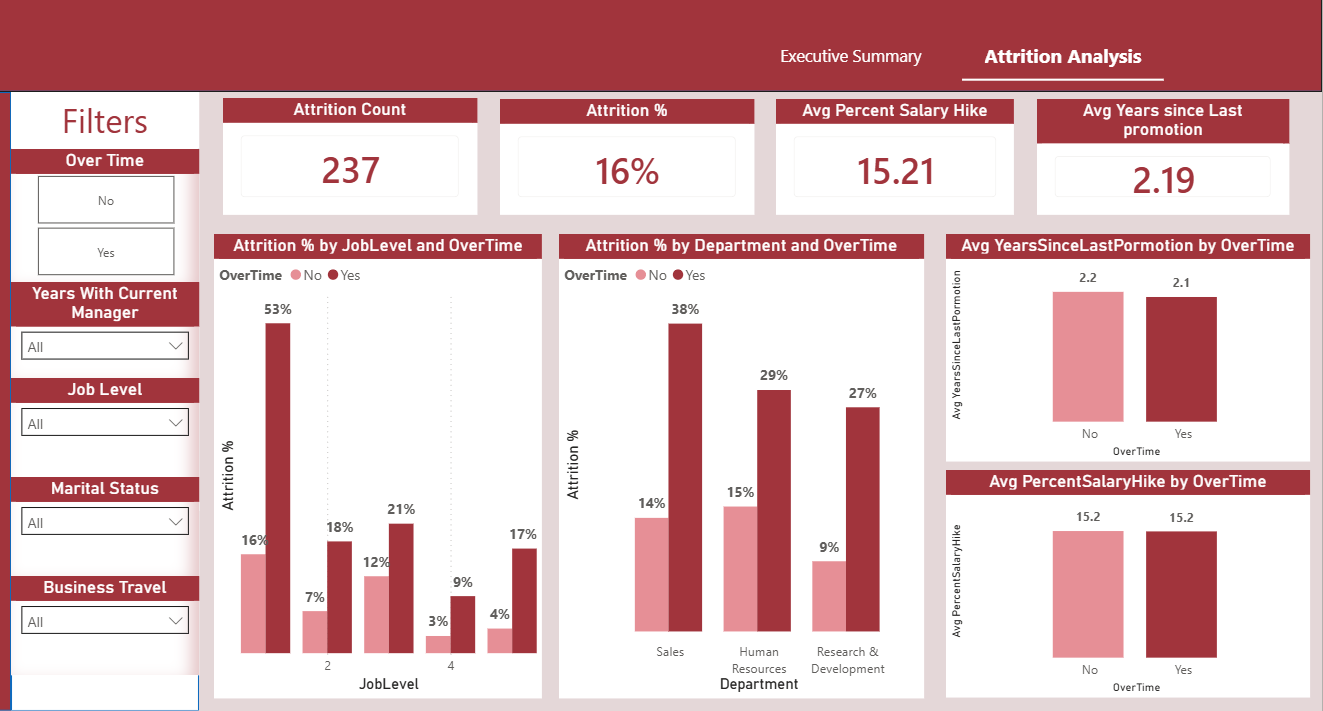

The page's visual inventory and layout, read from the dashboard file:
{"tool":"powerbi","page":{"name":"Attrition Analysis","canvas":[1280,720],"ordinal":1},"visuals":[{"type":"shape","box":[0,0,1280,99.6],"z":0},{"type":"shape","box":[0,99.6,12.6,619.7],"z":1000},{"type":"cardVisual","title":"Attrition Count","fields":{"Data":["_Measures.Attrition count"]},"box":[217.5,119.9,245.6,113.1],"z":2000},{"type":"clusteredColumnChart","fields":{"Category":["HR_Datasets_Cleaned.Department"],"Y":["_Measures.Attrition %"],"Series":["HR_Datasets_Cleaned.OverTime"]},"box":[542.4,248.5,352.9,459.2],"z":3000},{"type":"clusteredColumnChart","fields":{"Category":["HR_Datasets_Cleaned.JobLevel"],"Y":["_Measures.Attrition %"],"Series":["HR_Datasets_Cleaned.OverTime"]},"box":[208.8,248.5,317.1,459.2],"z":4000},{"type":"cardVisual","title":"Avg Percent Salary Hike ","fields":{"Data":["_Measures.Avg PercentSalaryHike"]},"box":[751.2,119.9,230.1,112.1],"z":5000},{"type":"clusteredColumnChart","fields":{"Y":["_Measures.Avg YearsSinceLastPormotion"],"Category":["HR_Datasets_Cleaned.OverTime"]},"box":[916.5,248.5,351.9,231.1],"z":6000},{"type":"clusteredColumnChart","fields":{"Y":["_Measures.Avg PercentSalaryHike"],"Category":["HR_Datasets_Cleaned.OverTime"]},"box":[916.5,487.3,351.9,220.4],"z":7000},{"type":"cardVisual","title":"Attrition %","fields":{"Data":["_Measures.Attrition %"]},"box":[485.3,119.9,245.6,112.1],"z":8000},{"type":"cardVisual","title":"Avg Years since Last promotion","fields":{"Data":["_Measures.Avg YearsSinceLastPormotion"]},"box":[1002.5,119.9,243.6,112.1],"z":9000},{"type":"shape","box":[12.6,121.8,181.8,598.4],"z":10000},{"type":"slicer","title":"Over Time","fields":{"Values":["HR_Datasets_Cleaned.OverTime"]},"box":[12.6,160.5,181.8,145],"z":11000},{"type":"slicer","title":"Years With Current Manager","fields":{"Values":["HR_Datasets_Cleaned.new_YearsWithCurrManager"]},"box":[12.6,305.5,181.8,92.8],"z":12000},{"type":"slicer","title":"Job Level","fields":{"Values":["HR_Datasets_Cleaned.JobLevel"]},"box":[12.6,398.3,181.8,127.6],"z":13000},{"type":"textbox","box":[12.6,99.6,181.8,60.9],"z":14000},{"type":"slicer","title":"Marital Status","fields":{"Values":["HR_Datasets_Cleaned.MaritalStatus"]},"box":[12.6,494,181.8,95.7],"z":15000},{"type":"slicer","title":"Business Travel","fields":{"Values":["HR_Datasets_Cleaned.BusinessTravel"]},"box":[12.6,589.7,181.8,95.7],"z":16000},{"type":"pageNavigator","box":[730.9,37.7,400.2,50.3],"z":17000}]}

Visuals, with their boxes on the page's 1280x720 design canvas (x1, y1, x2, y2). These are canvas units, not pixel positions in the 1323x711 screenshot, which may show the page scaled, cropped or inside an application window:
shape: x1=0, y1=0, x2=1280, y2=100
shape: x1=0, y1=100, x2=13, y2=719
"Attrition Count" cardVisual: x1=218, y1=120, x2=463, y2=233
clusteredColumnChart - HR_Datasets_Cleaned.Department x _Measures.Attrition %: x1=542, y1=248, x2=895, y2=708
clusteredColumnChart - HR_Datasets_Cleaned.JobLevel x _Measures.Attrition %: x1=209, y1=248, x2=526, y2=708
"Avg Percent Salary Hike " cardVisual: x1=751, y1=120, x2=981, y2=232
clusteredColumnChart - _Measures.Avg YearsSinceLastPormotion x HR_Datasets_Cleaned.OverTime: x1=916, y1=248, x2=1268, y2=480
clusteredColumnChart - _Measures.Avg PercentSalaryHike x HR_Datasets_Cleaned.OverTime: x1=916, y1=487, x2=1268, y2=708
"Attrition %" cardVisual: x1=485, y1=120, x2=731, y2=232
"Avg Years since Last promotion" cardVisual: x1=1002, y1=120, x2=1246, y2=232
shape: x1=13, y1=122, x2=194, y2=720
"Over Time" slicer: x1=13, y1=160, x2=194, y2=306
"Years With Current Manager" slicer: x1=13, y1=306, x2=194, y2=398
"Job Level" slicer: x1=13, y1=398, x2=194, y2=526
textbox: x1=13, y1=100, x2=194, y2=160
"Marital Status" slicer: x1=13, y1=494, x2=194, y2=590
"Business Travel" slicer: x1=13, y1=590, x2=194, y2=685
pageNavigator: x1=731, y1=38, x2=1131, y2=88
